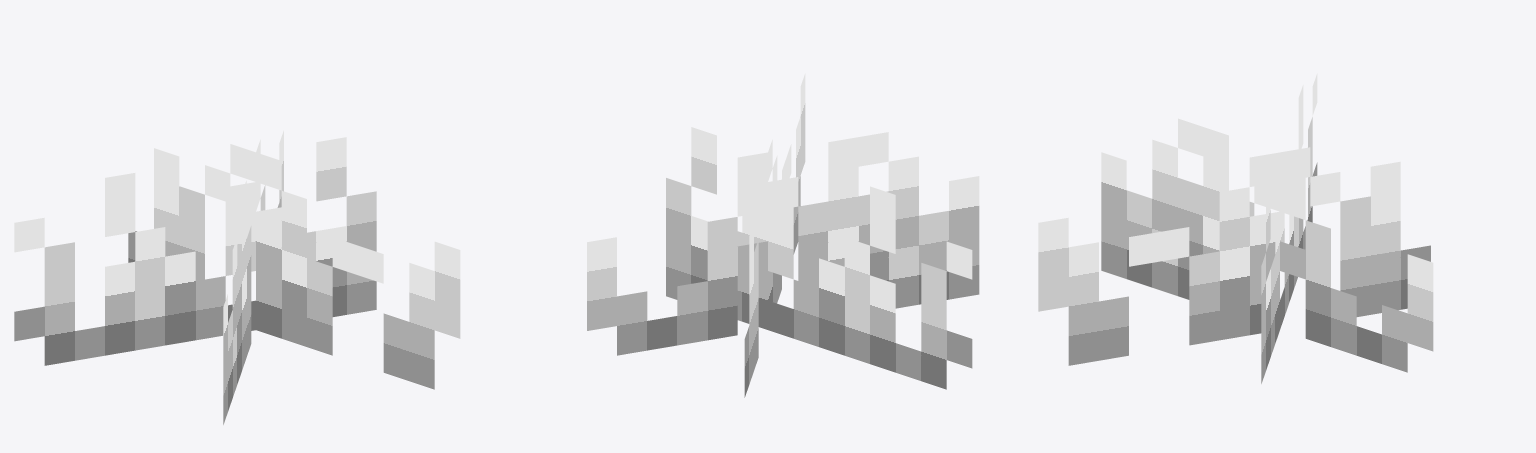
The model's file is grass_c.glb.
The picture shows the model from 3 angles, left to right: view 1: azimuth 30°, elevation 25°; view 2: azimuth 150°, elevation 25°; view 3: azimuth 270°, elevation 25°; orthographic projection.
Visible parts, largest first — view 1: grass_c; view 2: grass_c; view 3: grass_c.
Part boxes in pixels (<box>): grass_c: <box>14,130,460,424</box>; grass_c: <box>587,73,979,397</box>; grass_c: <box>1038,73,1433,383</box>.
Bounding box in the file's own units: 0.4949 × 0.22 × 0.4643.
1 material, 1 textured.
